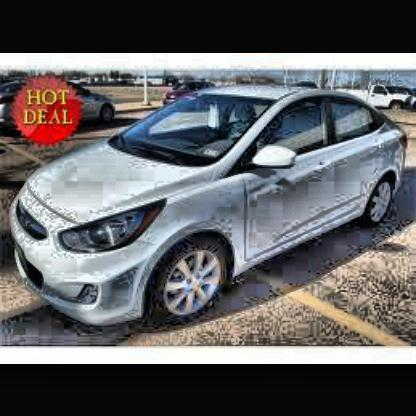Hyundai Accent Sedan 2012: (12, 89, 410, 334)
